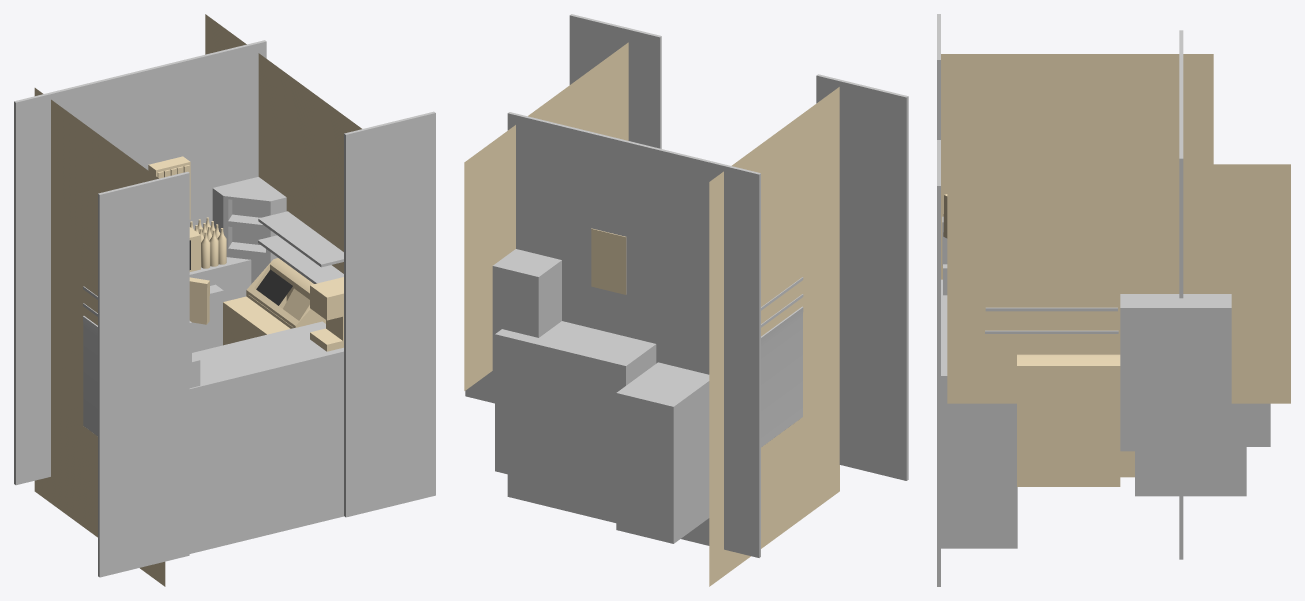
3 renders of one model, left to right at view 1: azimuth 30°, elevation 25°; view 2: azimuth 150°, elevation 25°; view 3: azimuth 270°, elevation 25°, orthographic. The views are drawn at different scales.
Parts seen in each view (by area): view 1: 立方体_3, 立方体_4, 立方体_5, shop_3, 立方体, 立方体_14, ice, 立方体_7, 立方体_10, juiceserver, 立方体_6, 立方体_9 (+4 smaller); view 2: 立方体_5, shop_3, 立方体_3, 立方体_7, 立方体_8, 立方体_4, 立方体_14, 立方体_6, sigarett; view 3: shop_3, 立方体_14, 立方体, ice, 立方体_7, 立方体_5, 立方体_4, 立方体_8, 立方体_10, 立方体_9, 立方体_3.
Boxes of the visible parts, <box> form: 立方体_3: <box>98,171,189,577</box>; 立方体_4: <box>344,111,435,517</box>; 立方体_5: <box>14,40,266,485</box>; shop_3: <box>34,14,361,586</box>; 立方体: <box>189,321,343,553</box>; 立方体_14: <box>212,177,286,283</box>; ice: <box>223,258,325,345</box>; 立方体_7: <box>189,257,251,352</box>; 立方体_10: <box>258,211,343,267</box>; juiceserver: <box>310,277,343,351</box>; 立方体_6: <box>82,316,97,436</box>; 立方体_9: <box>258,235,343,283</box>; 立方体_5: <box>507,112,760,557</box>; shop_3: <box>464,42,839,586</box>; 立方体_3: <box>816,74,908,480</box>; 立方体_7: <box>495,321,656,500</box>; 立方体_8: <box>616,362,709,543</box>; 立方体_4: <box>569,14,661,148</box>; 立方体_14: <box>465,249,561,403</box>; 立方体_6: <box>761,306,803,447</box>; sigarett: <box>591,228,626,294</box>; shop_3: <box>941,54,1290,477</box>; 立方体_14: <box>1120,294,1231,451</box>; 立方体: <box>941,279,1017,548</box>; ice: <box>1017,354,1120,486</box>; 立方体_7: <box>1135,403,1246,496</box>; 立方体_5: <box>1179,30,1183,559</box>; 立方体_4: <box>937,140,940,586</box>; 立方体_8: <box>1246,403,1270,446</box>; 立方体_10: <box>985,307,1117,311</box>; 立方体_9: <box>985,330,1118,333</box>; 立方体_3: <box>937,14,940,139</box>.
Size of the model in its own units: 191 by 222 by 166.
